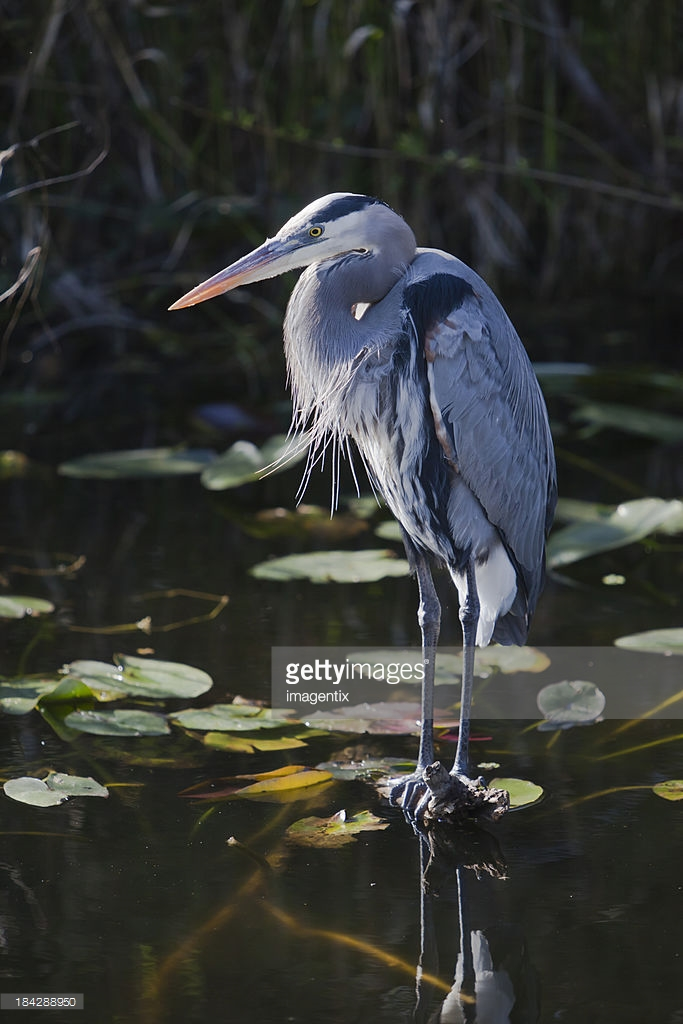heron: (166, 182, 566, 815)
